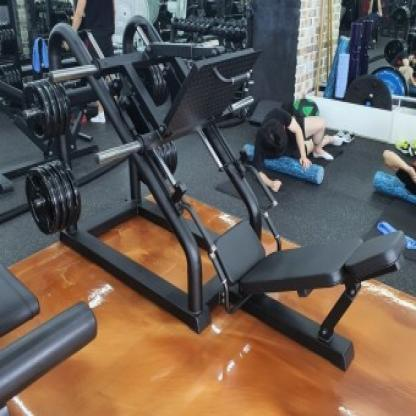leg press: (23, 16, 409, 379)
